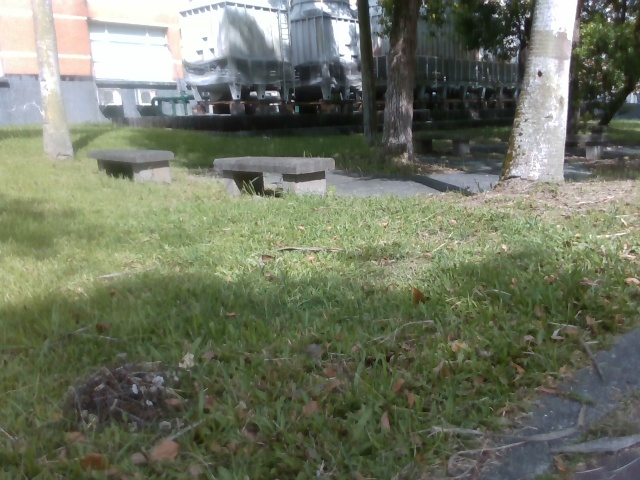grass: (0, 117, 639, 479), (354, 0, 639, 187), (417, 117, 508, 171), (37, 8, 64, 130)
road: (338, 167, 496, 197)
sidewalk: (237, 158, 474, 188)
